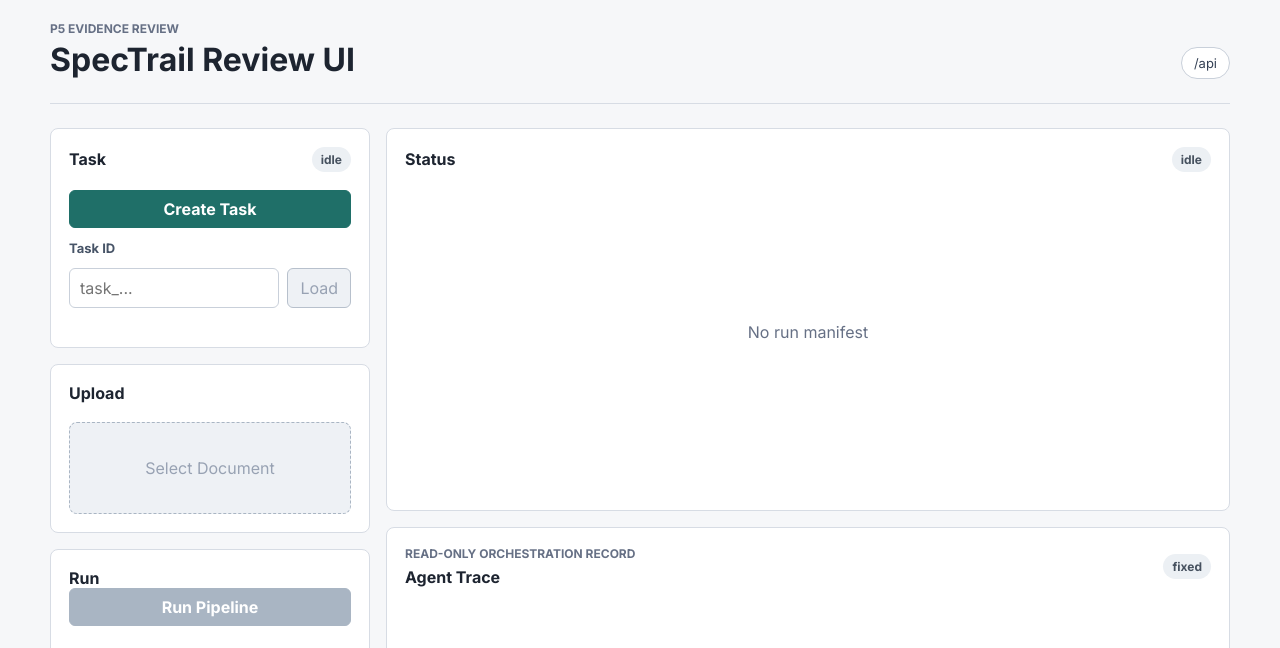
Test case: App pipeline run reconciliation › loads the generation-bound trace for an Agent task
Type "task-1" into the field labelled "Task ID" at (174, 288), box [69,268,279,308]
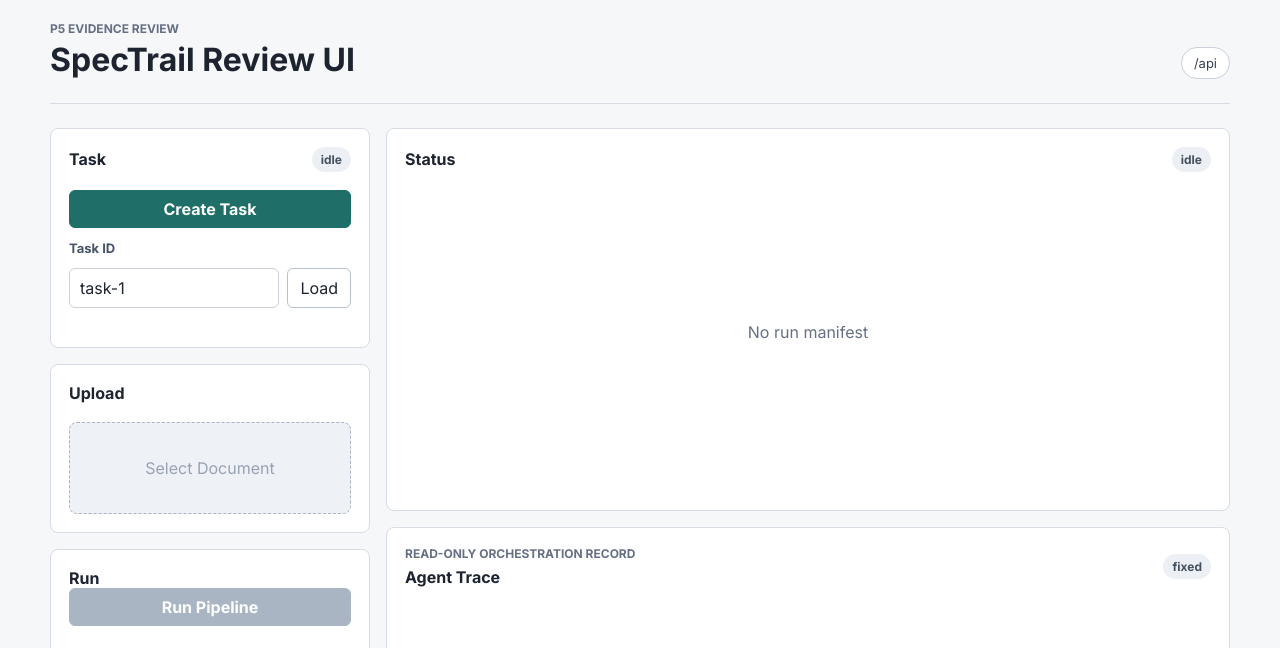
Click the button "Load" at (319, 288), box [287,268,351,308]
(page scrolled)
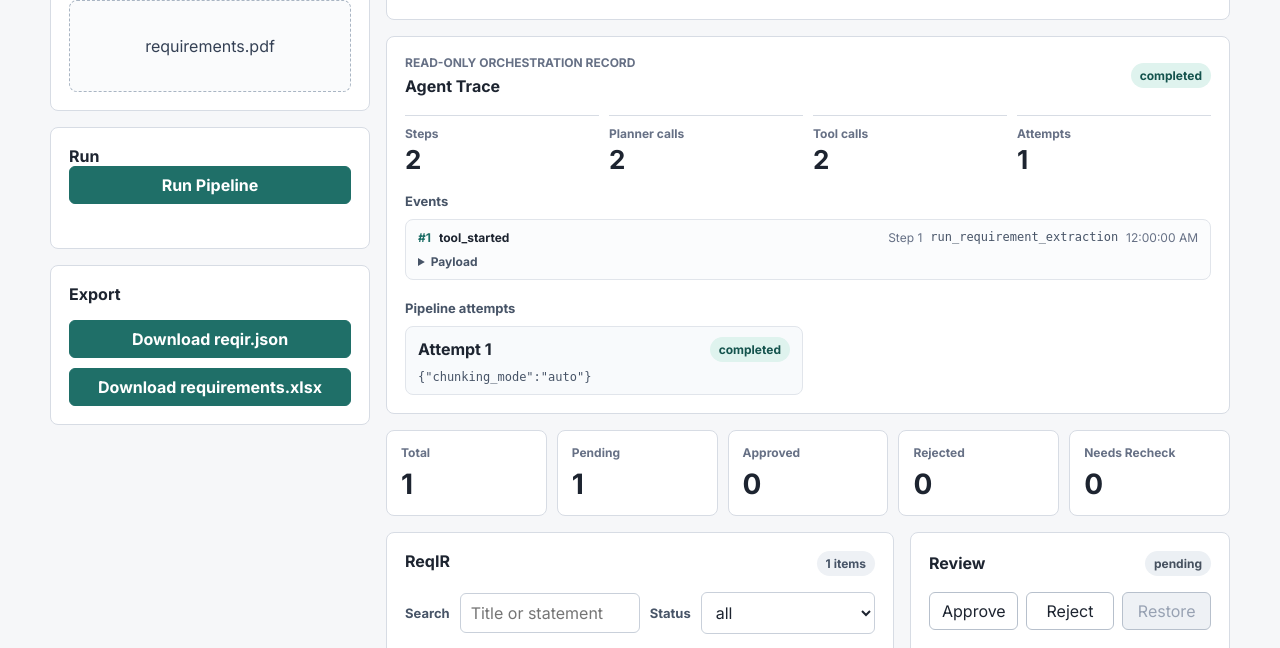
Expected: the text "tool_started" is shown, [439,230,509,245]
Expected: the text "Attempt 1" is shown, [418,339,492,359]
